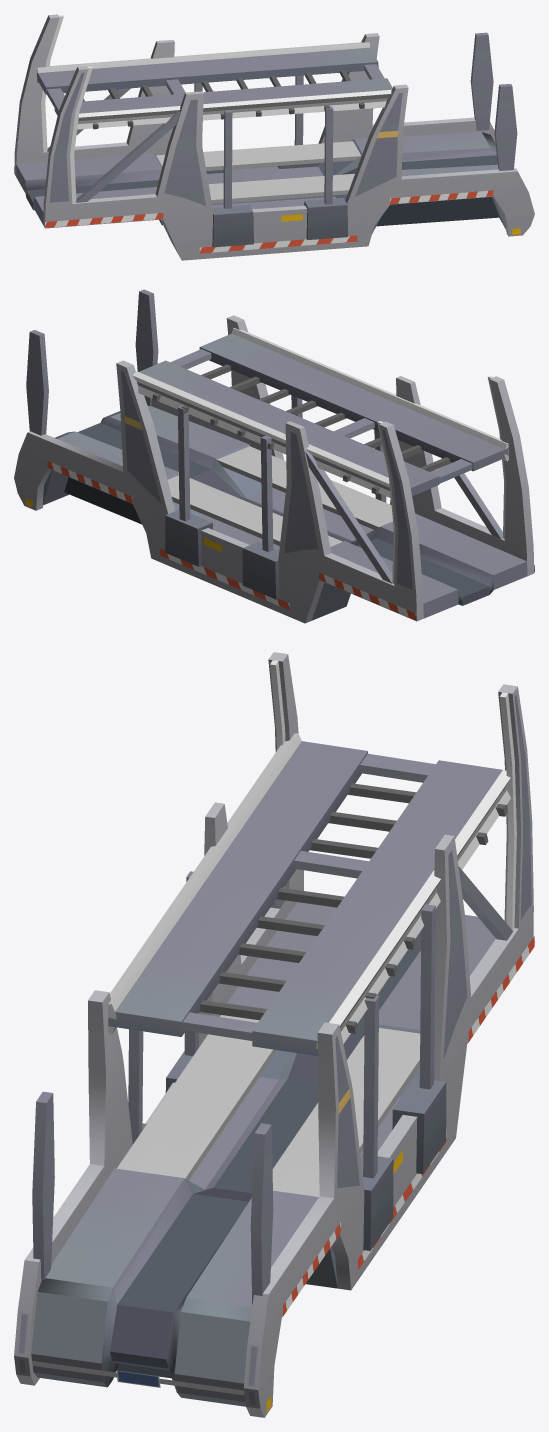
File: Trailer.fbx
The picture shows the model from 3 angles, top to bottom: view 1: azimuth 30°, elevation 25°; view 2: azimuth 150°, elevation 25°; view 3: azimuth 270°, elevation 25°; orthographic projection. The views are drawn at different scales.
Visible parts, largest first — view 1: Trailer; view 2: Trailer; view 3: Trailer.
Part boxes in pixels (box(x1,y1,x2,y2)): Trailer: box(14, 14, 534, 260); Trailer: box(14, 289, 534, 623); Trailer: box(14, 652, 534, 1417).
Size of the model in its own units: 2600 by 1152 by 1390.
Materials: 1 (1 with a texture image).
